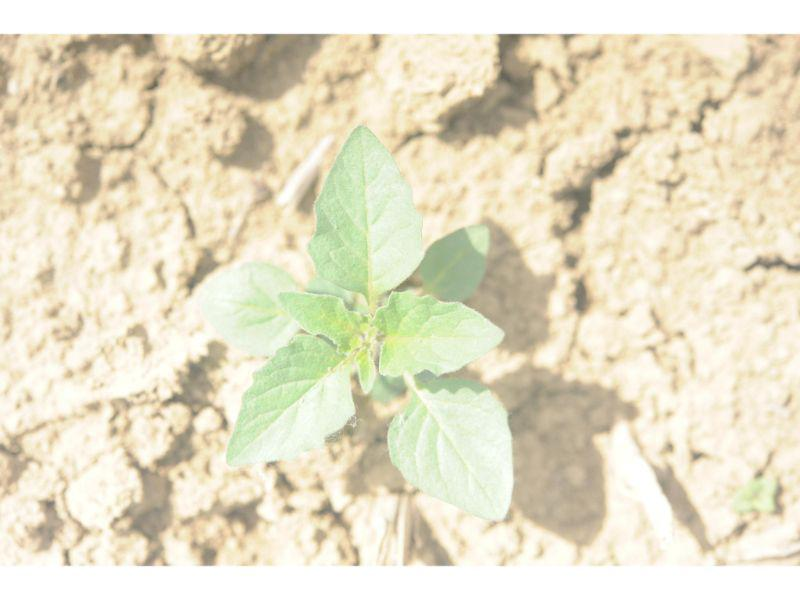nightshade: (199, 124, 516, 522)
